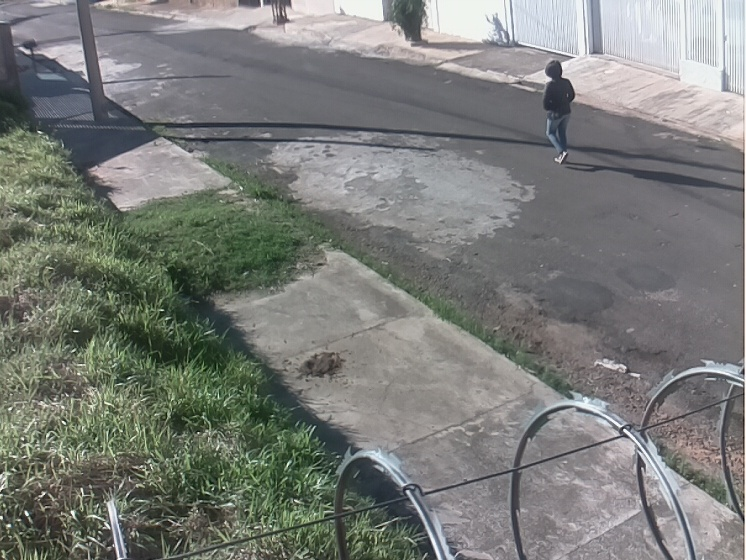person: (542, 60, 575, 165)
